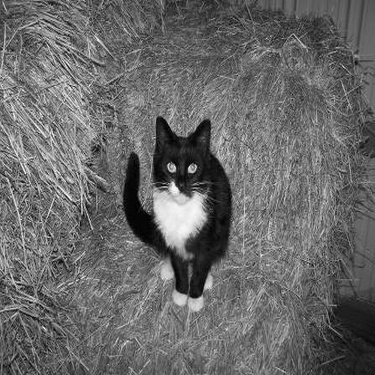cat: (110, 106, 246, 314)
